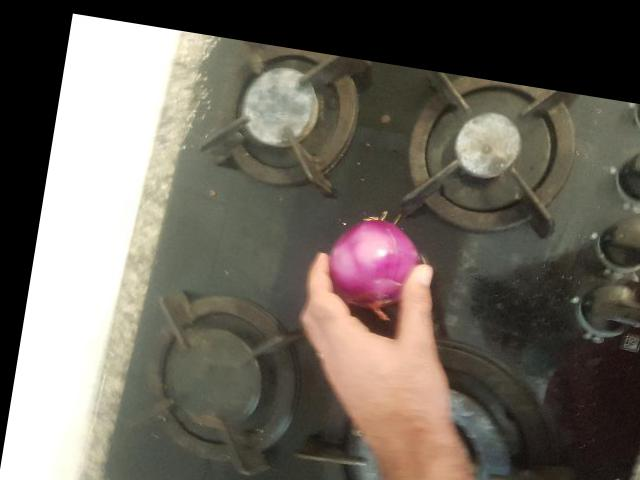onion: (206, 118, 315, 241)
